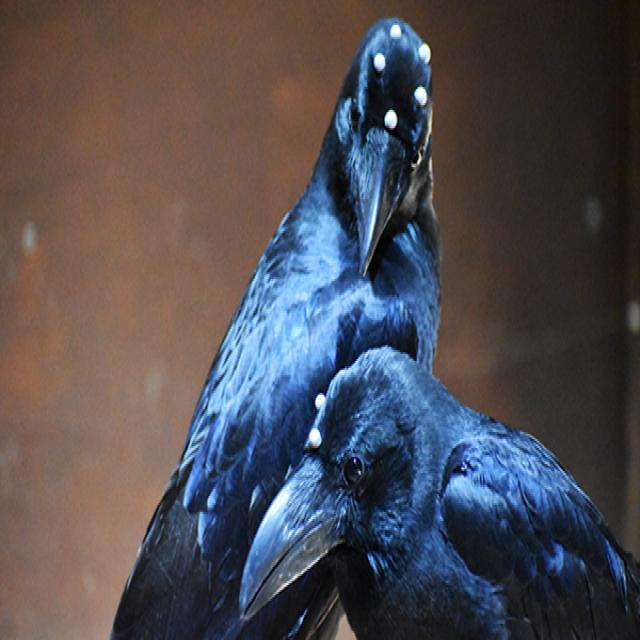crow: (100, 16, 439, 640), (230, 356, 637, 640)
